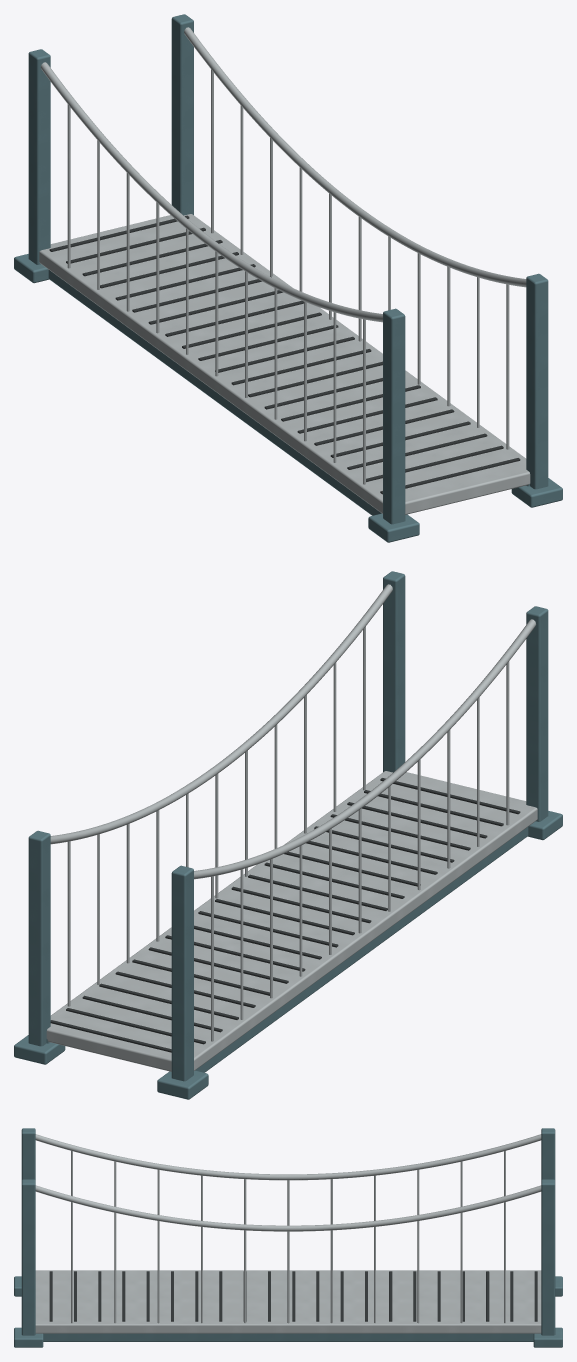
File: gorgehold-survivor-gallery-and-operations-suspended-em-d0b06ee8__32880.glb
3 views of the same model, one above another, from view 1: azimuth 30°, elevation 25°; view 2: azimuth 150°, elevation 25°; view 3: azimuth 270°, elevation 25° (orthographic). The views are drawn at different scales.
Parts seen in each view (by area): view 1: suspended-emergency-footbridge; view 2: suspended-emergency-footbridge; view 3: suspended-emergency-footbridge.
Boxes of the visible parts, box(x1,y1,x2,y2) form: suspended-emergency-footbridge: box(14, 14, 562, 542); suspended-emergency-footbridge: box(14, 571, 562, 1099); suspended-emergency-footbridge: box(14, 1128, 562, 1347).
Bounding box in the file's own units: 1.72 × 2.05 × 6.34.
Materials: 3 (2 with a texture image).
